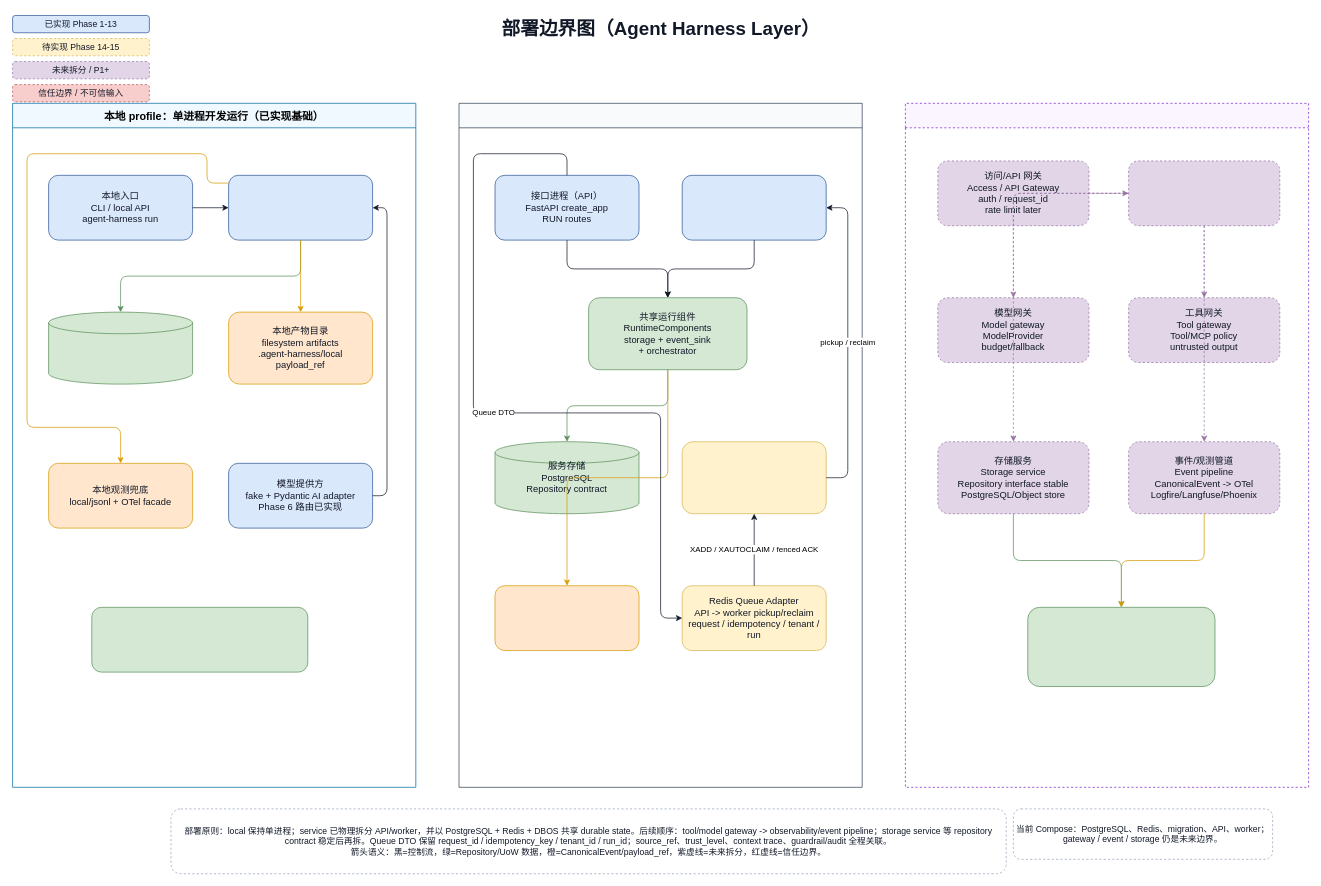
This 1321x886 diagram has some shape labels left out. The box of each missing label's shape, as (x1, y1, x2, y2) in pixels:
Durable Queue Redis Streams consumer group / XAUTOCLAIM: (681, 441, 826, 514)
Runtime Worker DBOS singleton + recovery checkpoint / approval continuation: (681, 175, 826, 240)
共享事件证据 PostgreSQL CanonicalEvent seq / event_id / unique terminal: (494, 585, 639, 651)
拆分不变契约 DTO / CanonicalEvent provider/facade interface tenant/run/trace IDs: (1027, 607, 1215, 687)
服务 profile：API + Worker + PostgreSQL + Redis（Phase 13 已实现）: (458, 103, 862, 787)
未来拆分：Tool/Model Gateway → Event Pipeline → Storage（P1+）: (905, 103, 1309, 787)
本地存储 SQLite Repository/UoW Alembic schema: (48, 311, 193, 384)
本地运行编排 RunOrchestrator RuntimeComponents fake run: (228, 175, 373, 240)
边界契约仍生效 DTO / CanonicalEvent Repository interface: (91, 607, 308, 672)
运行 worker 池 Runtime worker pool checkpoint/resume idempotency: (1128, 160, 1280, 226)
